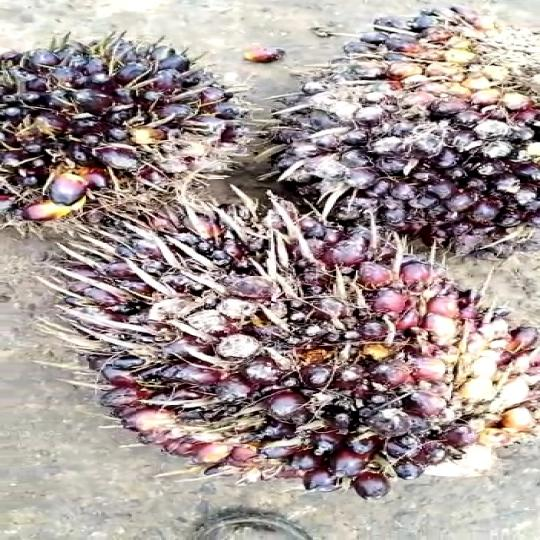kurang masak: (62, 182, 540, 507), (262, 5, 540, 293), (1, 28, 293, 254)
